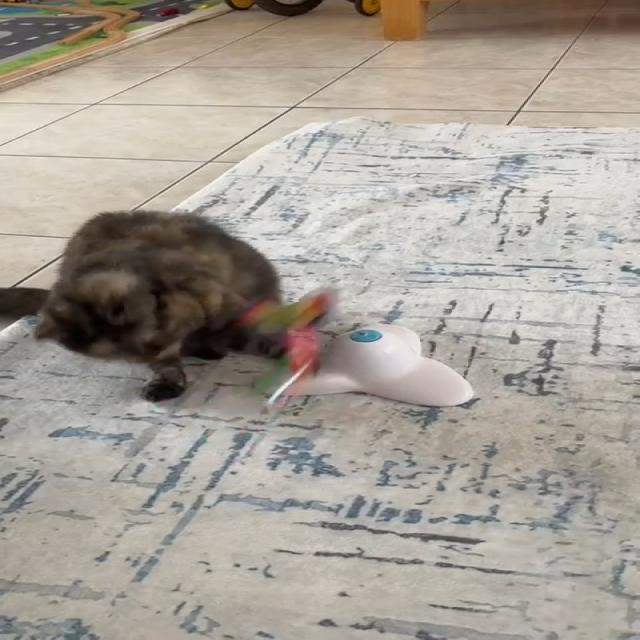authorized: (20, 208, 287, 402)
